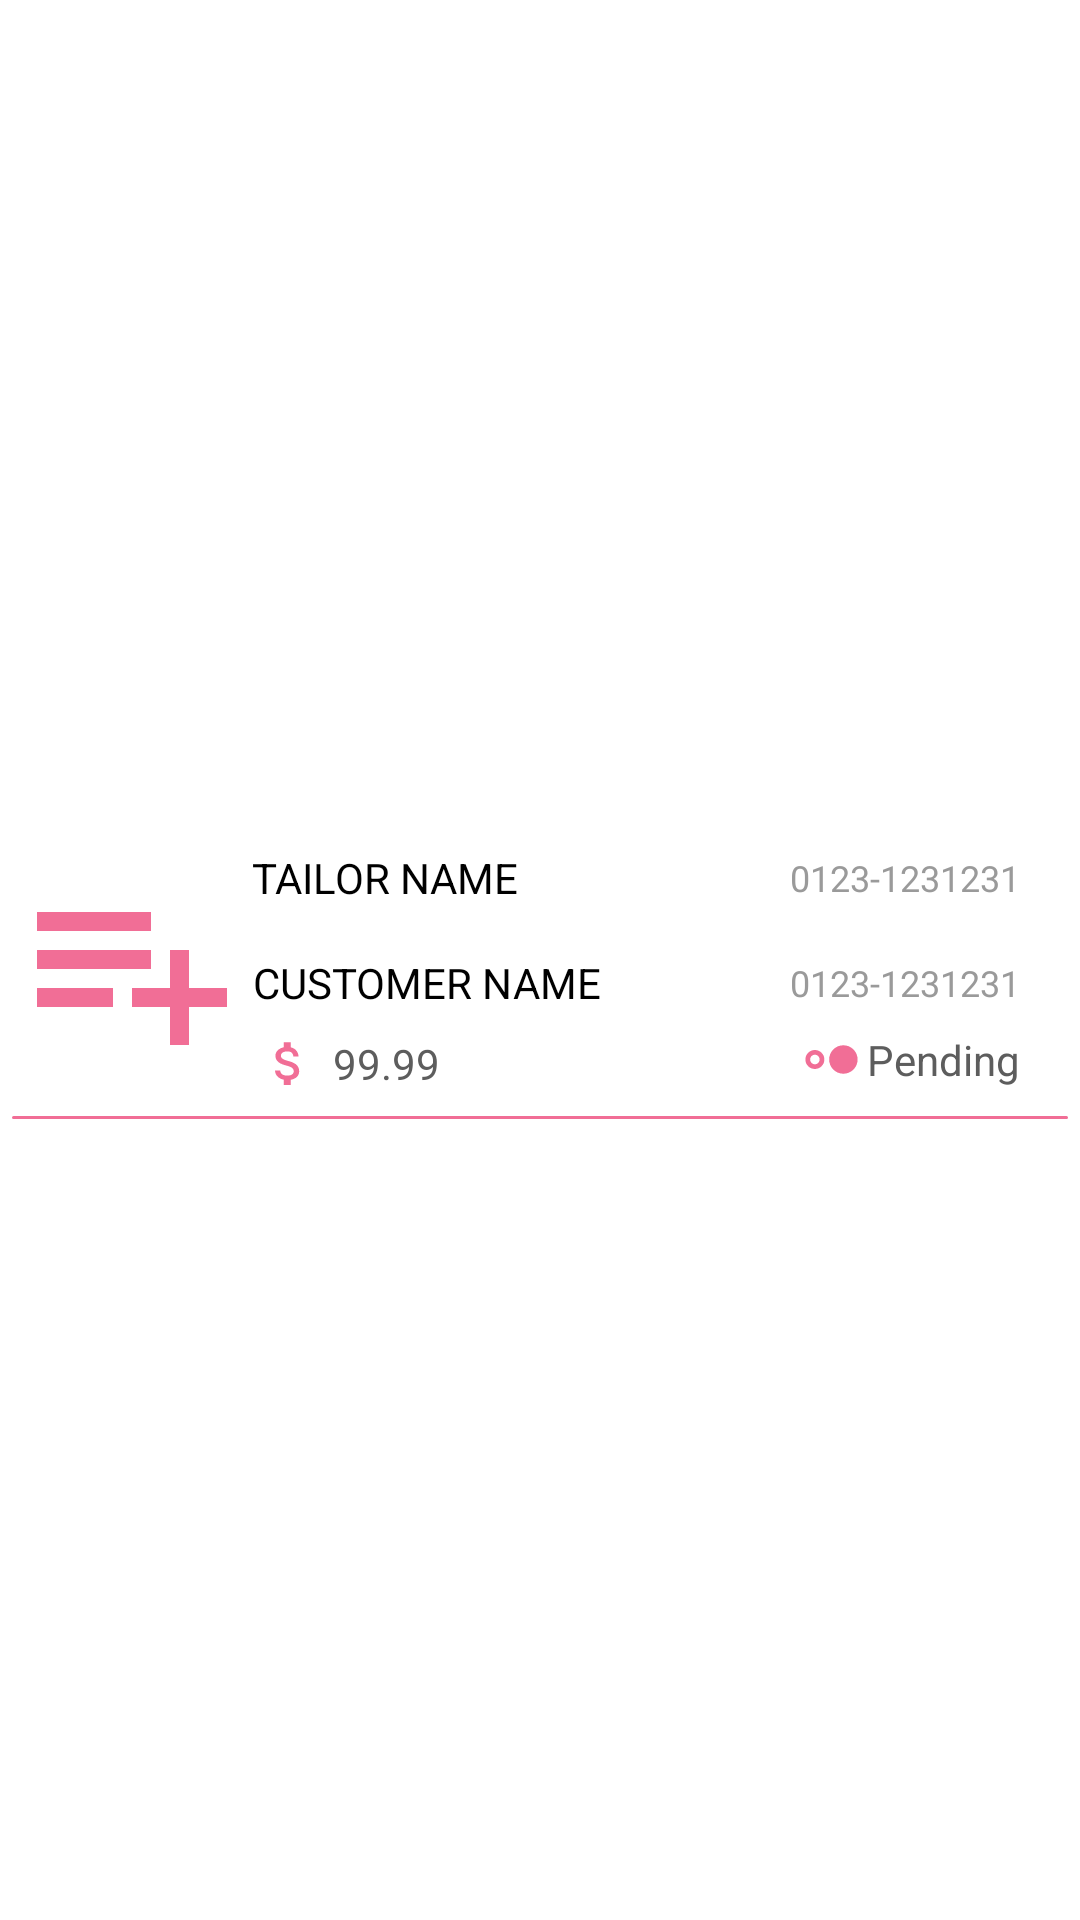

Where to tap for icons on this 1080px×1920px app screen, as point (x, y):
attach money: point (287, 1063)
hdr strong: point (831, 1059)
playlist add: point (132, 978)
